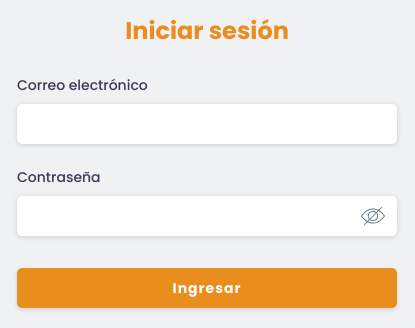
Test case: Test de formulario de Iniciar Sesion › Ingreso email no valido
Step 1. Type "emailfake" into the field named "email" → (207, 124), box [17,104,397,144]
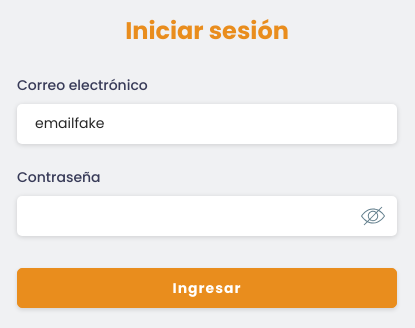
Step 2. Type "123456" into the password field named "password" → (207, 216), box [17,196,397,236]
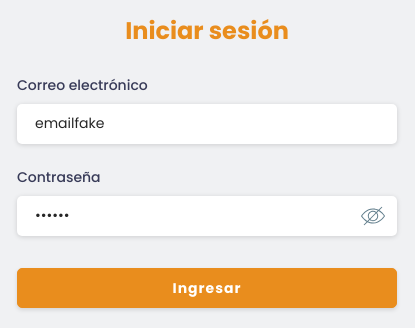
Step 3. Click the button "Ingresar" → (207, 288), box [17,268,397,308]
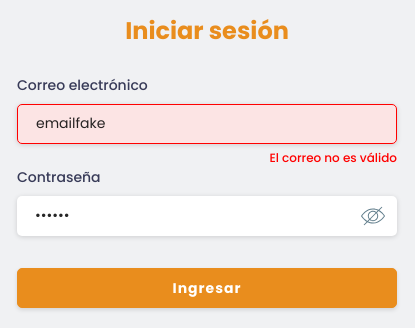
Expected: the number of fields with class "error" is 1, [17,104,397,144]
